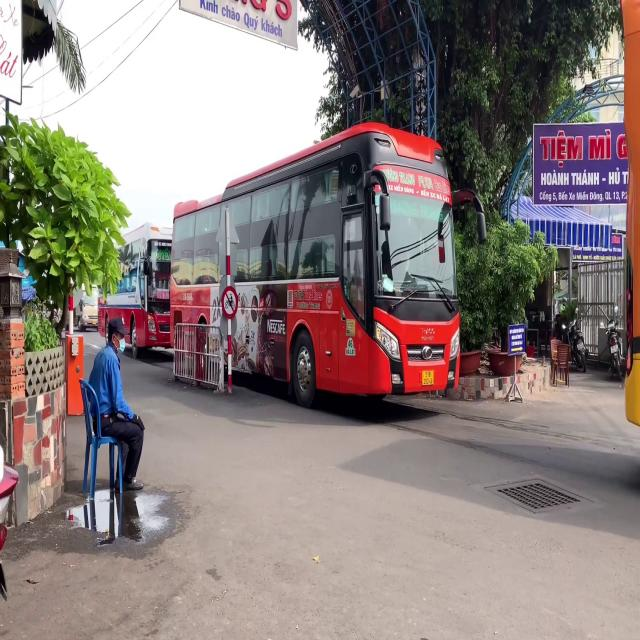bien_vang: (422, 370, 434, 386)
